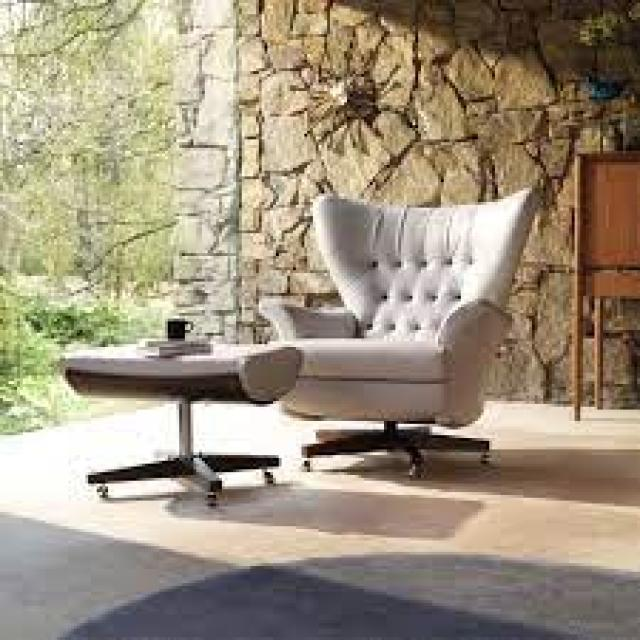chair: (237, 175, 558, 504)
